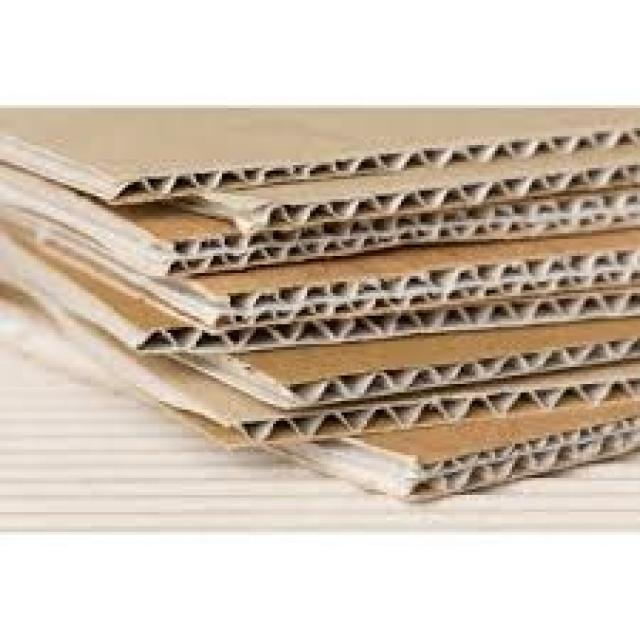cardboard: (0, 219, 637, 350), (0, 208, 637, 327), (0, 159, 637, 273), (0, 102, 637, 205), (0, 353, 637, 452), (0, 316, 637, 401), (182, 151, 637, 225), (268, 441, 638, 501)
